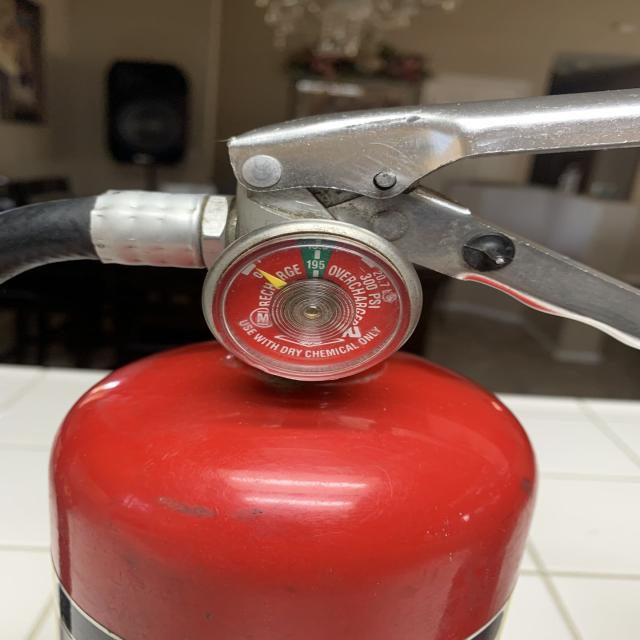pressure gauge: (203, 220, 421, 380)
